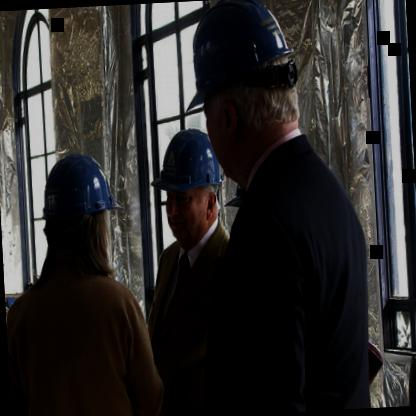helmet: (173, 0, 317, 199), (36, 131, 126, 280), (148, 108, 230, 256)
